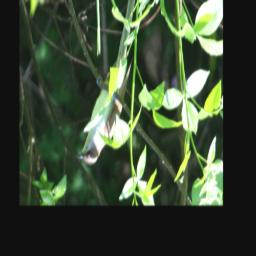Cuckoo: (74, 0, 138, 165)
